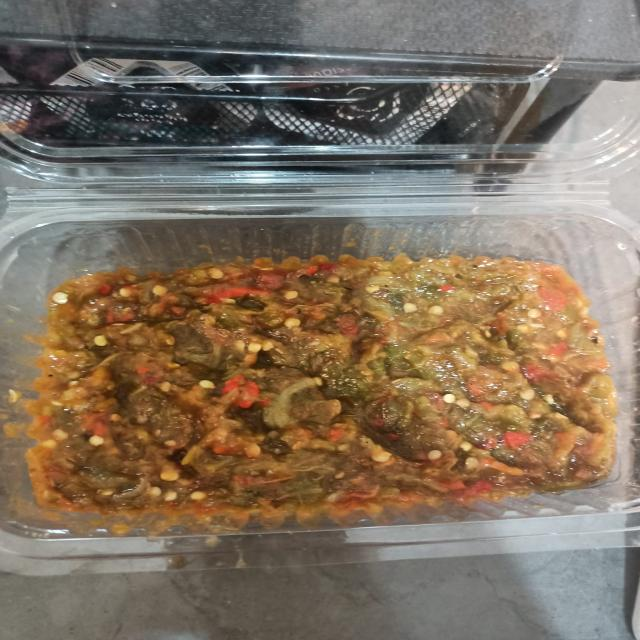Salade mechweya: (0, 202, 630, 559)
